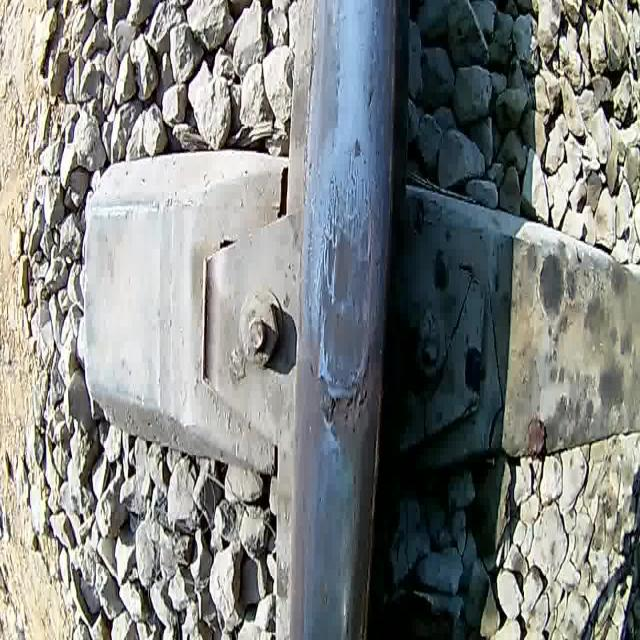Spallings: (342, 350, 373, 429), (320, 387, 338, 427)
Squats: (311, 136, 388, 470)
